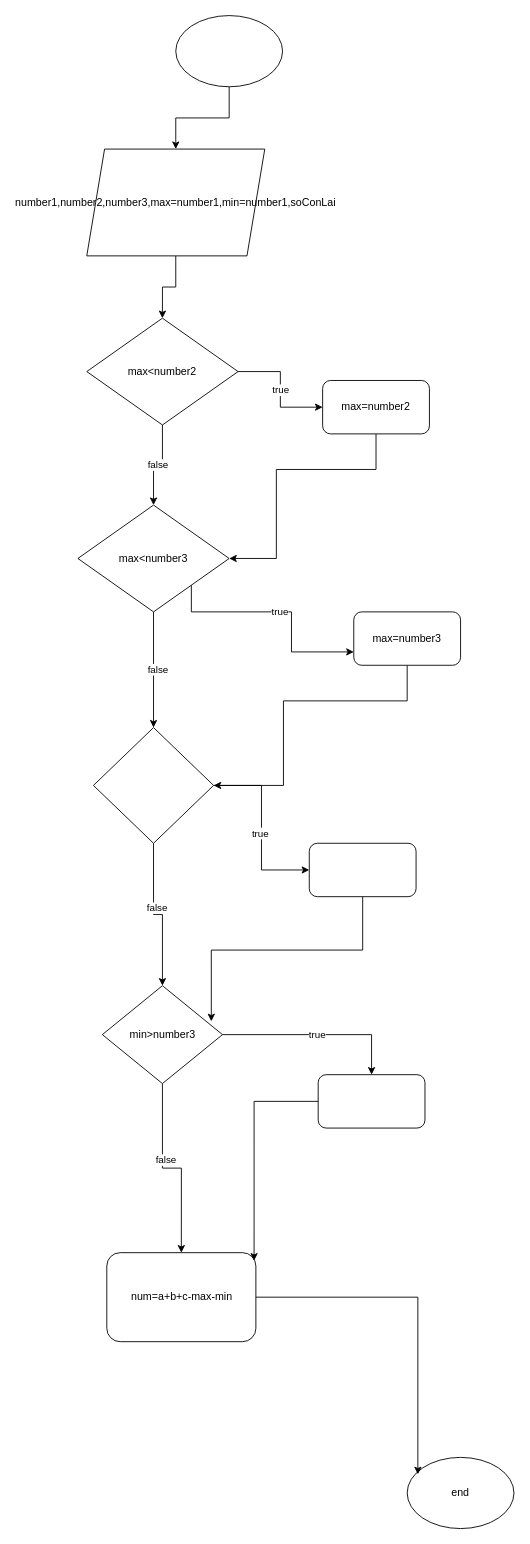
Image size: 530x1544. Some labels were removed from this diagram. The box of each missing label's shape, as (x1, y1, x2, y2) in pixels:
min=number2: (308, 842, 416, 897)
min=number3: (317, 1074, 425, 1128)
min>number2: (93, 727, 214, 843)
start: (175, 15, 283, 87)
